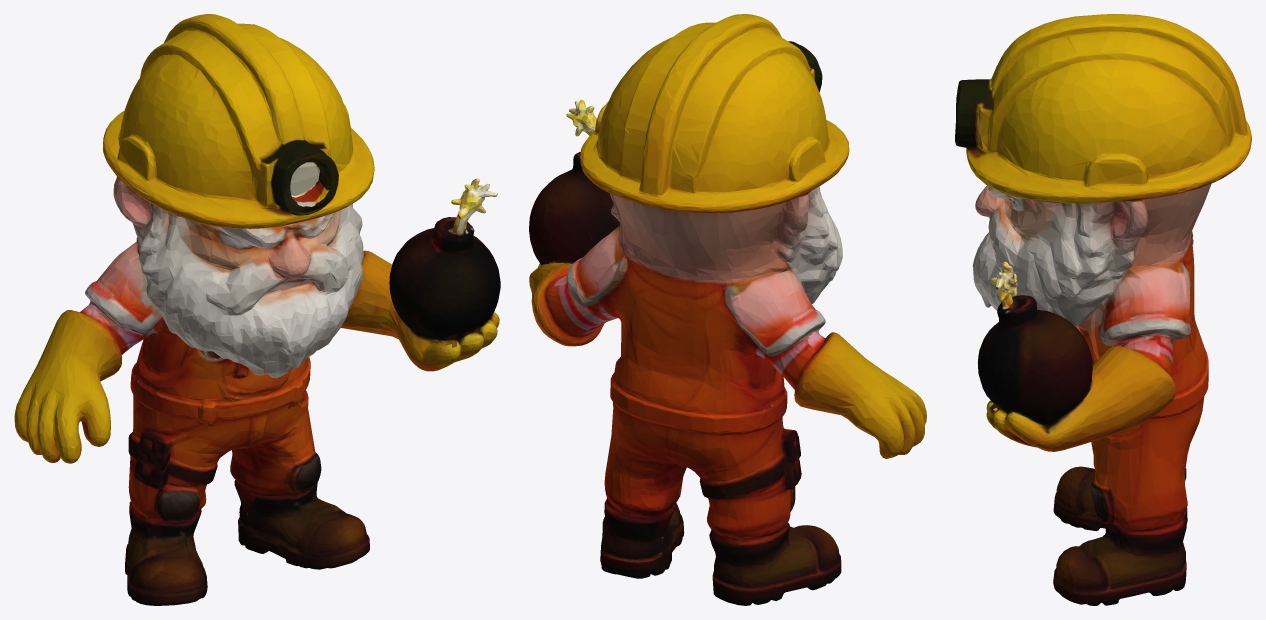
Rendered from bomber.glb.
3 views of the same model, side by side, from view 1: azimuth 30°, elevation 25°; view 2: azimuth 150°, elevation 25°; view 3: azimuth 270°, elevation 25° (orthographic).
Parts seen in each view (by area): view 1: tmpudfn8806.ply; view 2: tmpudfn8806.ply; view 3: tmpudfn8806.ply.
Boxes of the visible parts, x1,y1,x2,y2 form: tmpudfn8806.ply: [14, 14, 500, 605]; tmpudfn8806.ply: [529, 14, 926, 605]; tmpudfn8806.ply: [955, 14, 1251, 605].
Bounding box in the file's own units: 1.64 × 1.99 × 1.01.
1 material, 1 textured.
